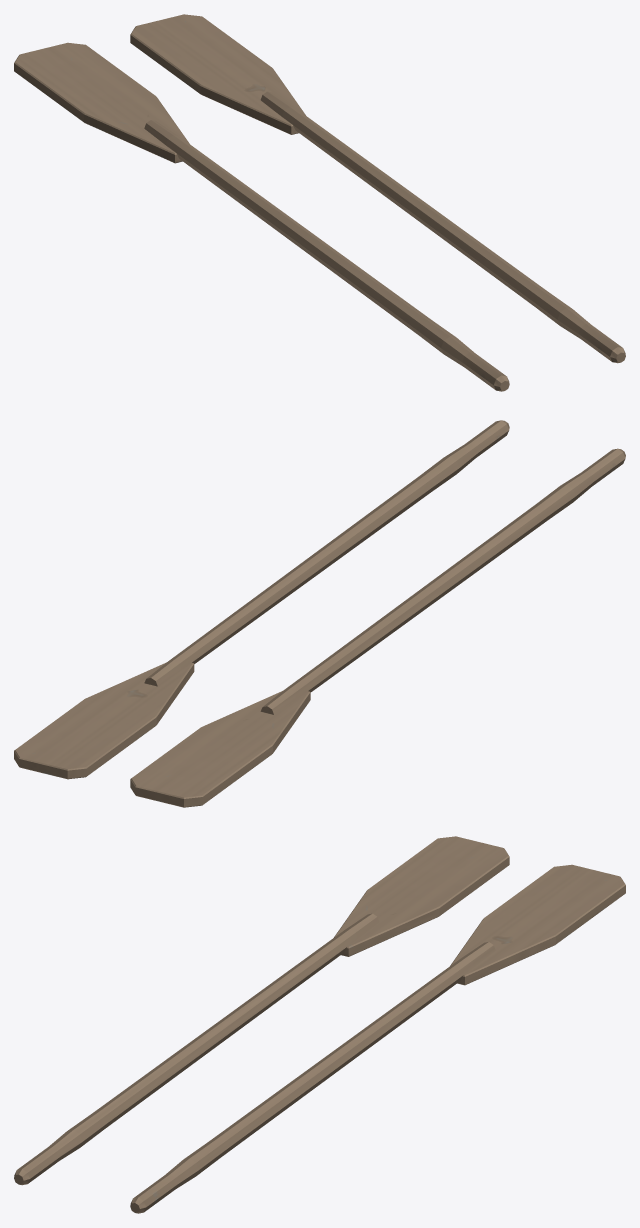
The model's file is lake_boat_toolkit_oars.glb.
3 renders of one model, top to bottom at view 1: azimuth 30°, elevation 25°; view 2: azimuth 150°, elevation 25°; view 3: azimuth 330°, elevation 25°, orthographic.
Visible parts, largest first — view 1: BoatToolkitOars; view 2: BoatToolkitOars; view 3: BoatToolkitOars.
Part boxes in pixels (bbox=[...]): BoatToolkitOars: bbox=[14, 14, 625, 391]; BoatToolkitOars: bbox=[14, 420, 625, 807]; BoatToolkitOars: bbox=[14, 836, 625, 1213].
Bounding box in the file's own units: 0.39 × 0.039 × 1.65.
Materials: 1 (1 with a texture image).
